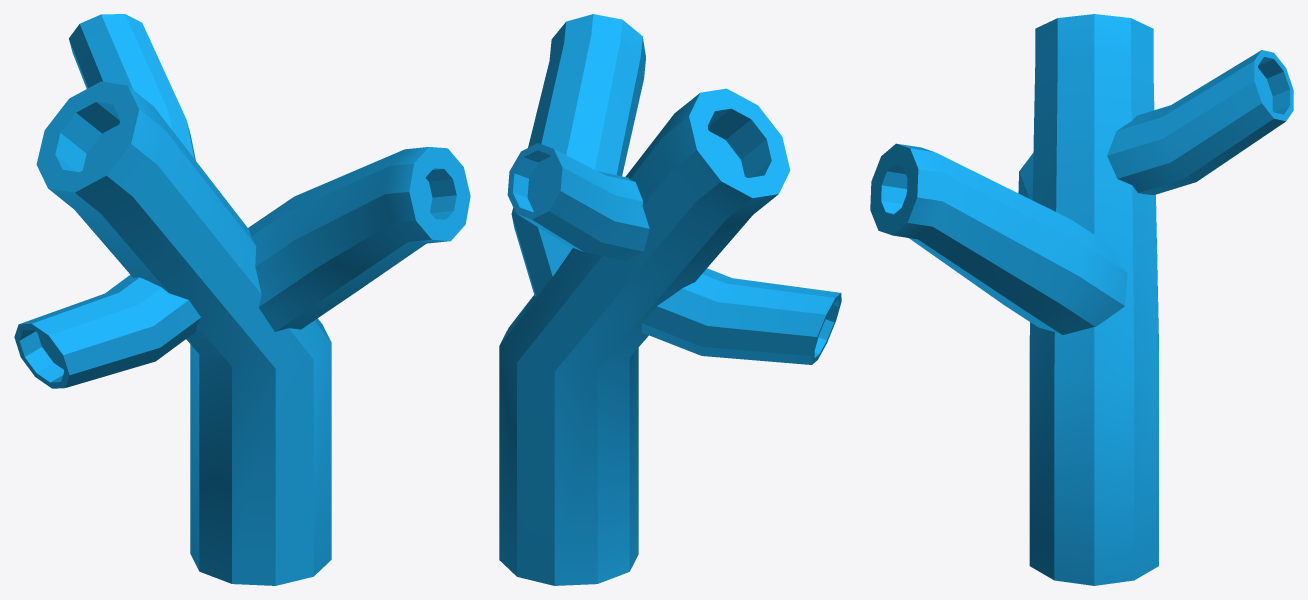
The model's file is Coral blue.fbx.
3 views of the same model, side by side, from view 1: azimuth 30°, elevation 25°; view 2: azimuth 150°, elevation 25°; view 3: azimuth 270°, elevation 25° (orthographic). The views are drawn at different scales.
Parts seen in each view (by area): view 1: Coral_blue; view 2: Coral_blue; view 3: Coral_blue.
Part boxes in pixels (left/top/right/bottom): Coral_blue: left=14, top=14, right=470, bottom=585; Coral_blue: left=499, top=14, right=841, bottom=585; Coral_blue: left=870, top=14, right=1293, bottom=585.
Size of the model in its own units: 33.86 by 44.8 by 35.72.
